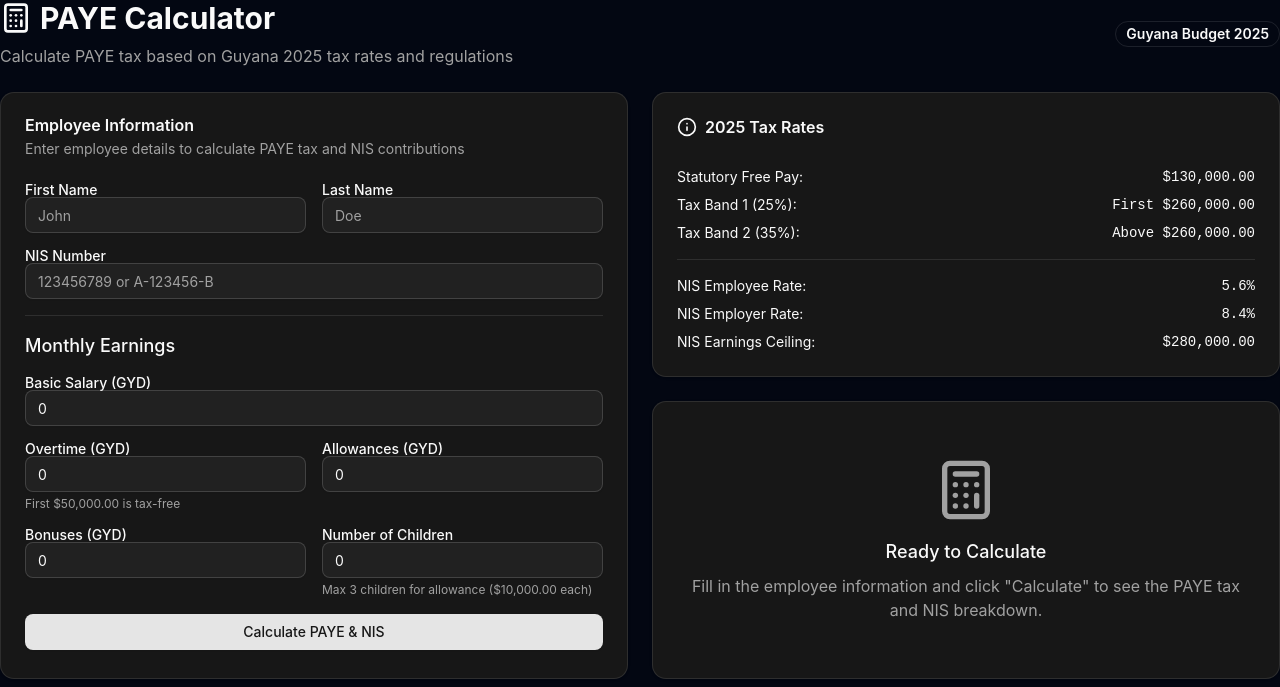
React Components › PayeCalculator Component › should validate numeric fields are non-negative
Replace the text in the number field labelled "Basic Salary (GYD)" with "-1000": (314, 408) [25,390,603,426]
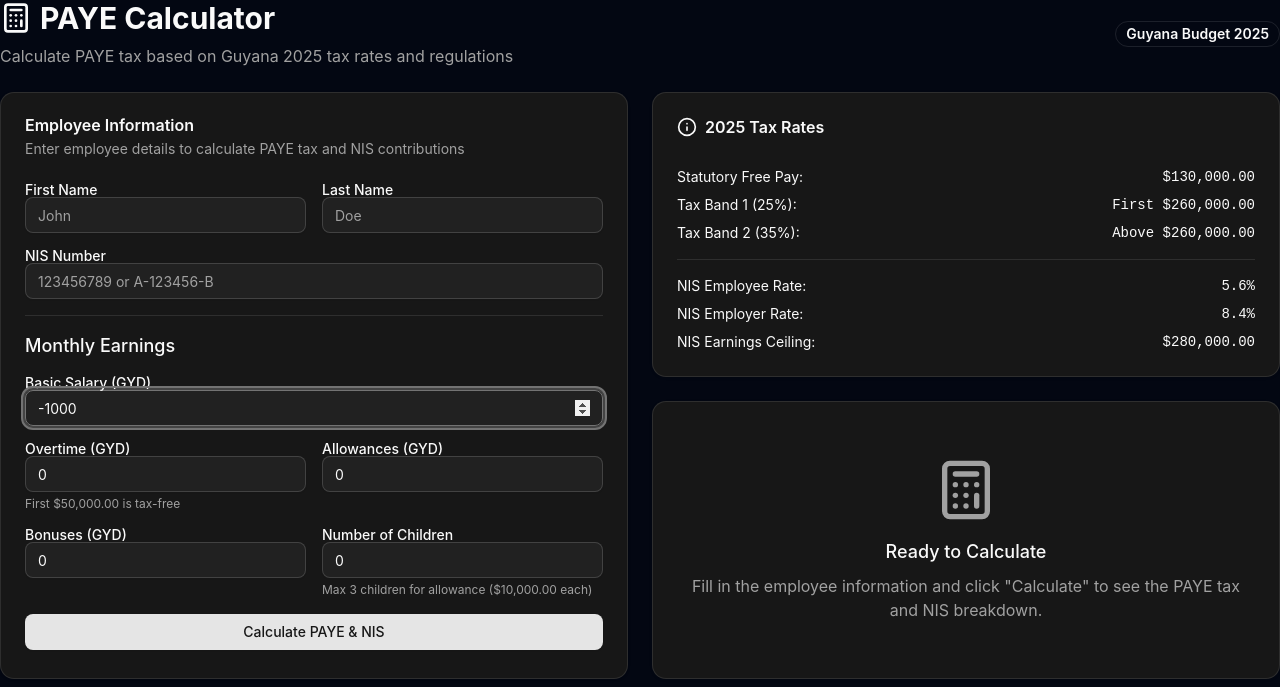
Click the button "Calculate PAYE & NIS": (314, 632) [25,614,603,650]
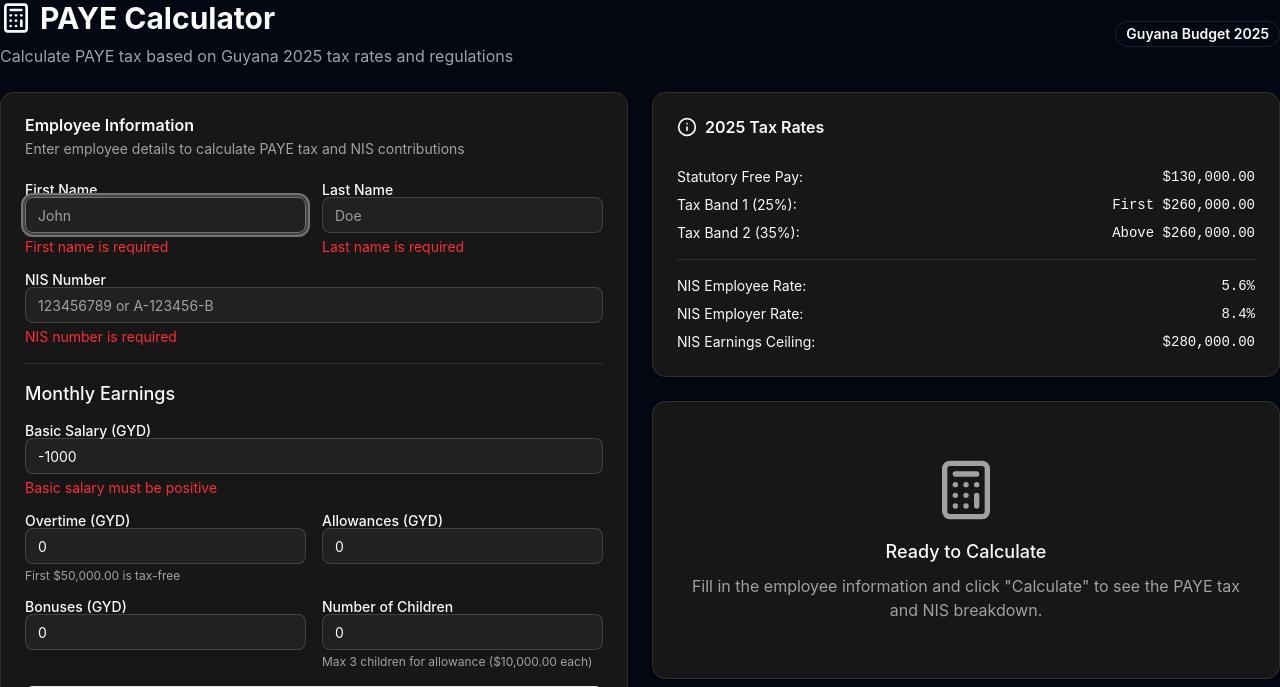
Expected: the text "Basic salary must be positive" is shown, [25,479,217,496]
